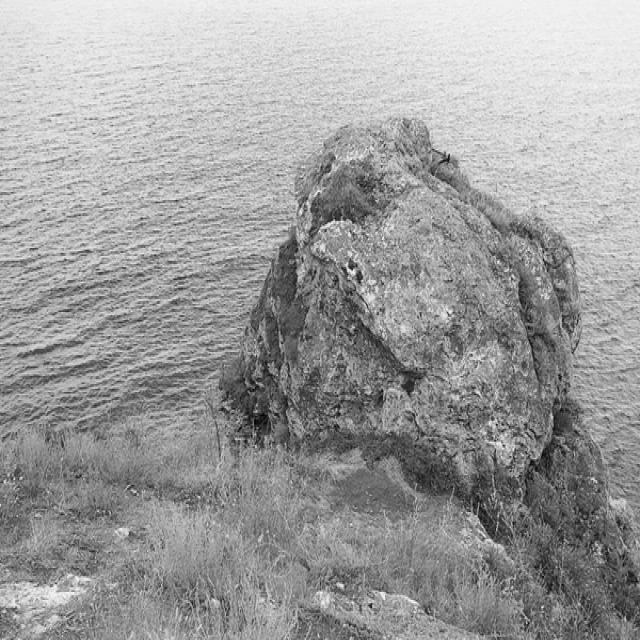Stone: (220, 115, 583, 489)
